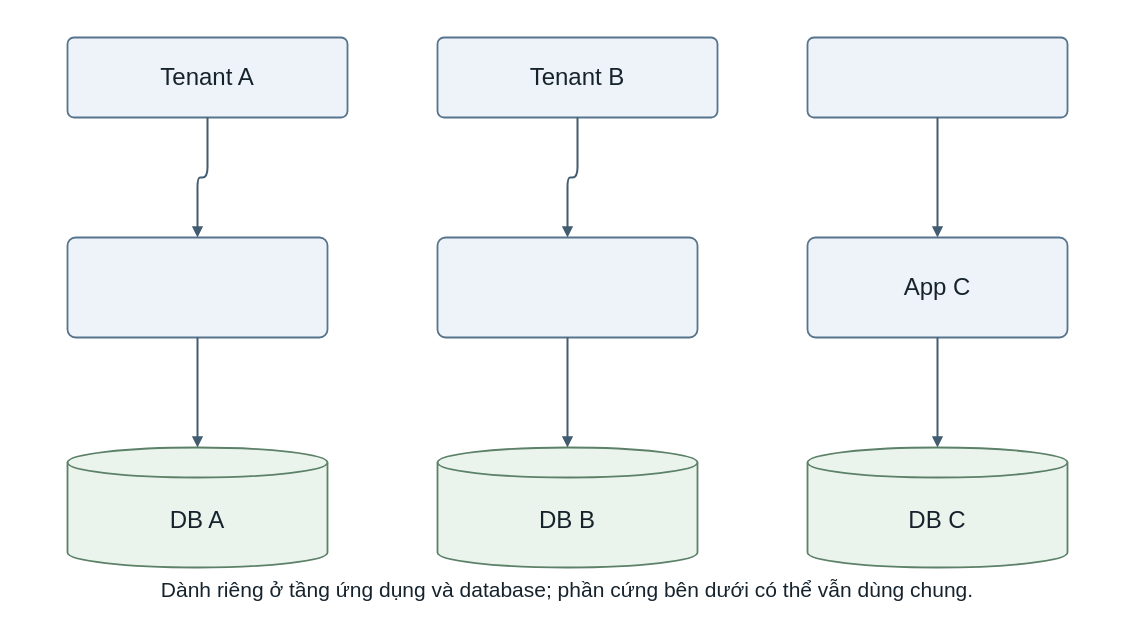
This 1134x634 diagram has some shape labels left out. Each missing label, with the centre of its shape:
"App A" belongs at pixel 197 287.
"App B" belongs at pixel 567 287.
"Tenant C" belongs at pixel 937 77.
